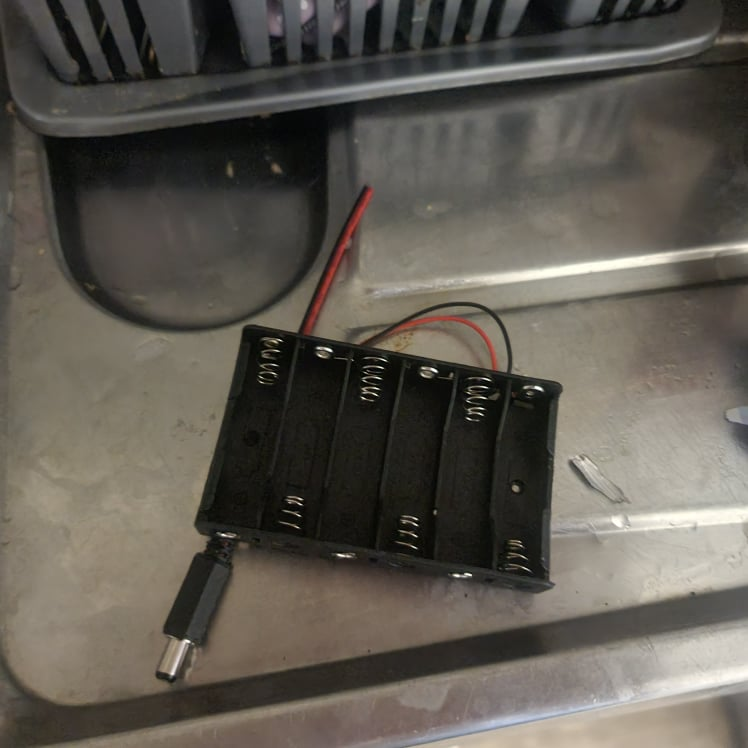BATTERY BOX: (200, 323, 565, 593)
